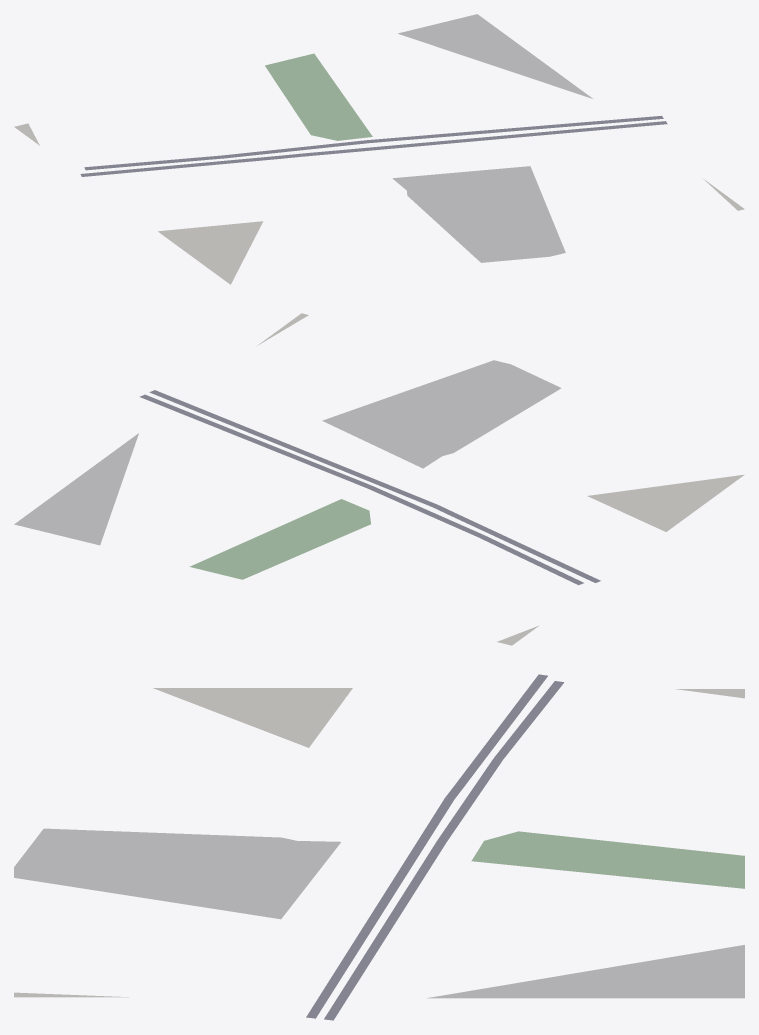
The model's file is 100_97_mid.glb.
The picture shows the model from 3 angles, top to bottom: view 1: azimuth 30°, elevation 25°; view 2: azimuth 150°, elevation 25°; view 3: azimuth 270°, elevation 25°; orthographic projection. The views are drawn at different scales.
Size of the model in its own units: 545 by 7.52 by 500.
